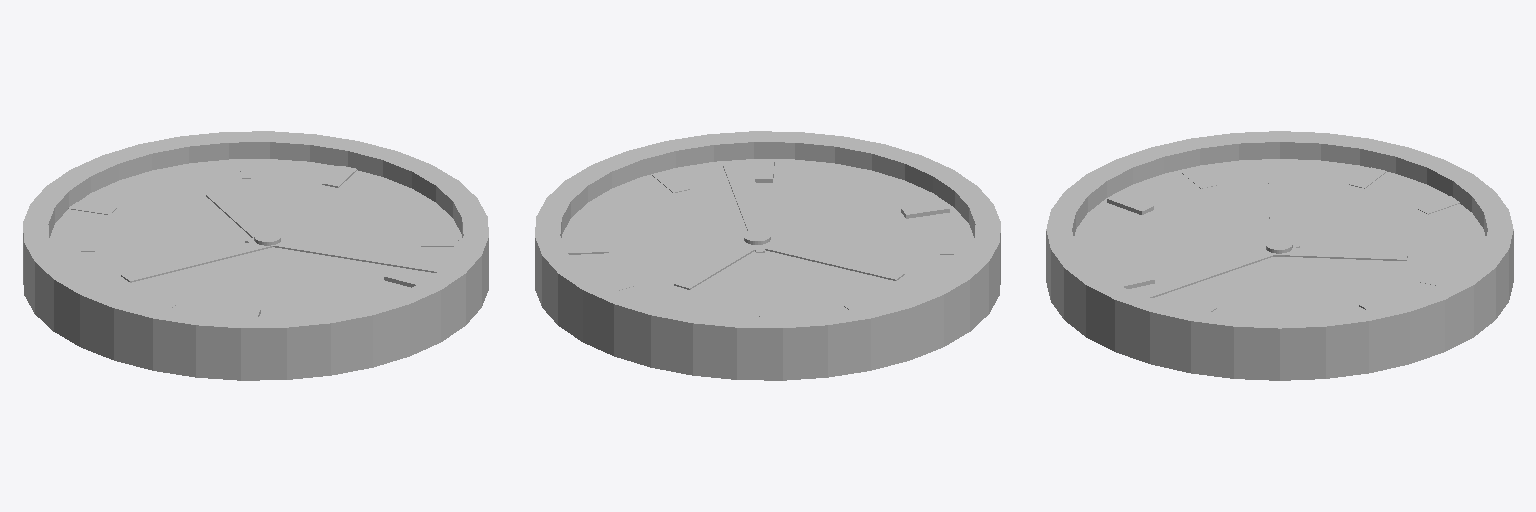
Rendered from jam dinding.obj.
3 views of the same model, side by side, from view 1: azimuth 30°, elevation 25°; view 2: azimuth 150°, elevation 25°; view 3: azimuth 270°, elevation 25° (orthographic).
Parts seen in each view (by area): view 1: Cylinder, Cylinder.001, Cube.011_Cube.014, Cube.009_Cube.012, Cube.010_Cube.013; view 2: Cylinder, Cylinder.001, Cube.011_Cube.014, Cube.010_Cube.013, Cube.009_Cube.012, Cube.005; view 3: Cylinder, Cylinder.001, Cube.010_Cube.013, Cube.011_Cube.014, Cube.009_Cube.012, Cube.005.
Boxes of the visible parts, x1,y1,x2,y2 form: Cylinder: [23, 131, 488, 380]; Cylinder.001: [50, 159, 461, 316]; Cube.011_Cube.014: [121, 242, 272, 282]; Cube.009_Cube.012: [245, 237, 441, 272]; Cube.010_Cube.013: [206, 191, 265, 246]; Cylinder: [535, 131, 1000, 380]; Cylinder.001: [562, 159, 973, 317]; Cube.011_Cube.014: [747, 241, 904, 280]; Cube.010_Cube.013: [674, 242, 760, 289]; Cube.009_Cube.012: [723, 165, 764, 252]; Cube.005: [901, 201, 949, 218]; Cylinder: [1046, 131, 1513, 380]; Cylinder.001: [1074, 159, 1485, 317]; Cube.010_Cube.013: [1272, 248, 1407, 260]; Cube.011_Cube.014: [1268, 181, 1288, 256]; Cube.009_Cube.012: [1143, 243, 1299, 297]; Cube.005: [1107, 193, 1153, 214].
Bounding box in the file's own units: 4.73 × 0.5851 × 4.73.